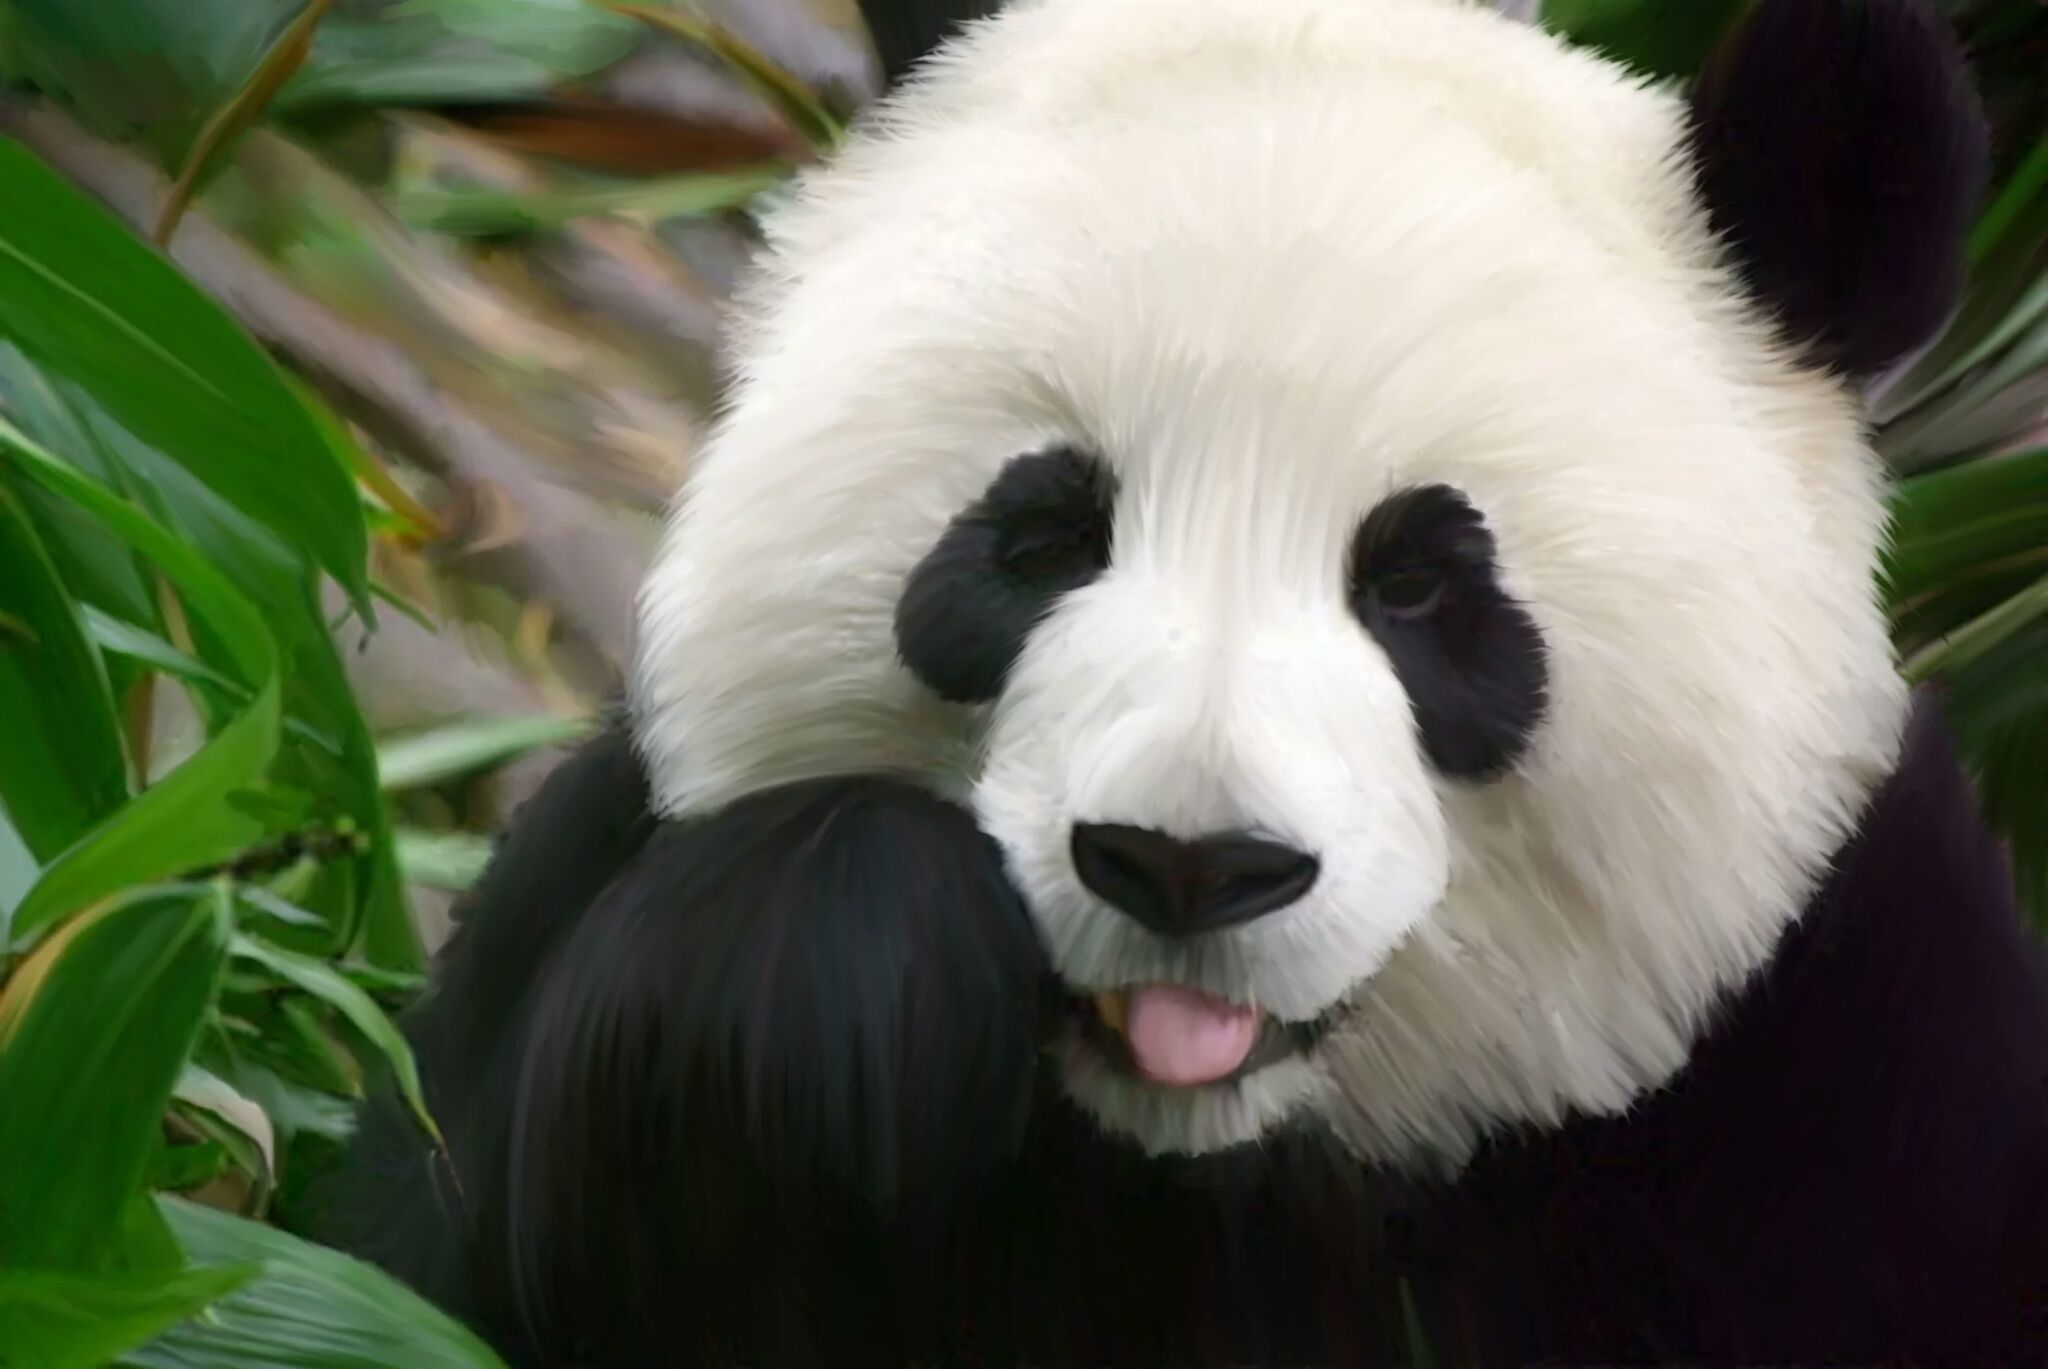panda: (409, 38, 2010, 1302)
